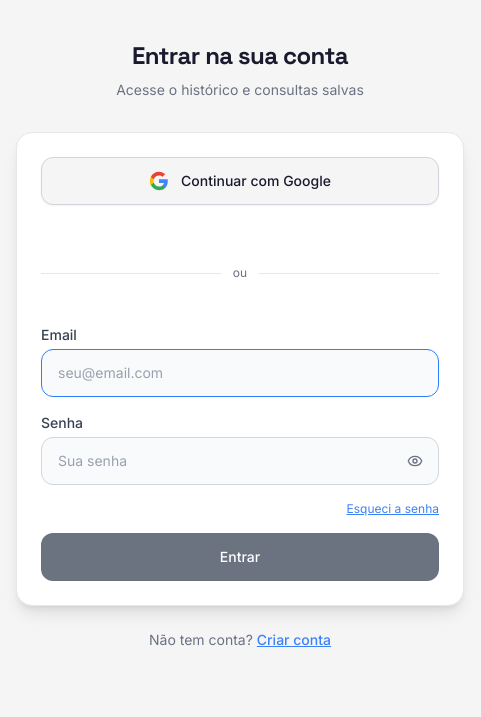
LoginForm › Error Messages (Task 7.5) › shows Portuguese error for email_not_confirmed
Type "test@example.com" into the field labelled "Email" at (240, 373), box [41,349,439,397]
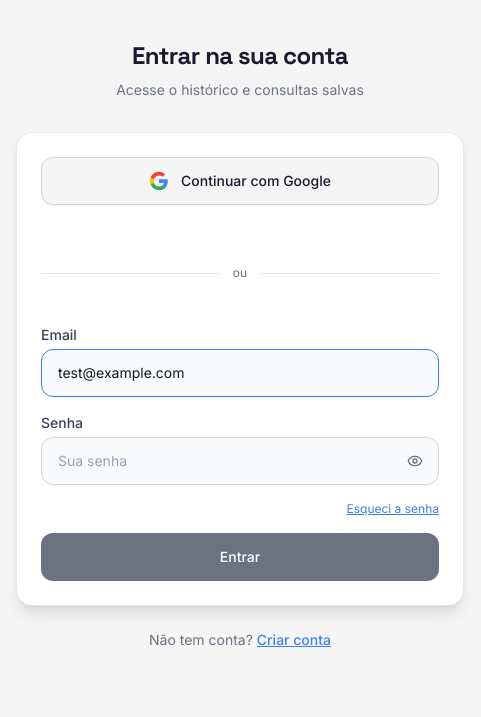
Type "password123" into the password field with id "login-password" at (240, 461), box [41,437,439,485]
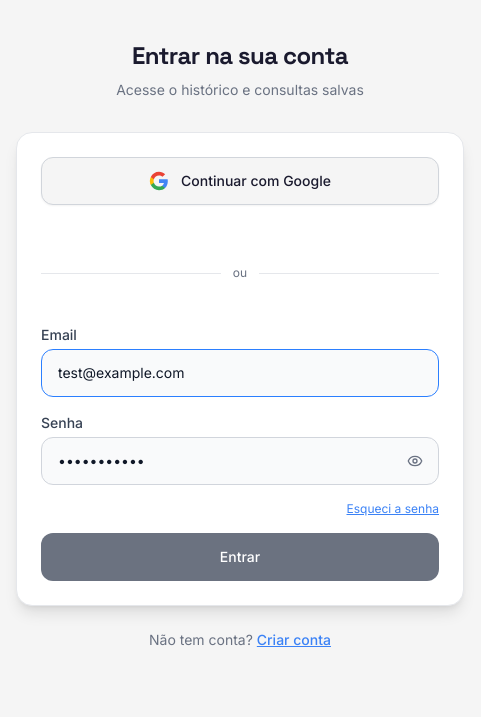
Click the button "Entrar" at (240, 557), box [41,533,439,581]
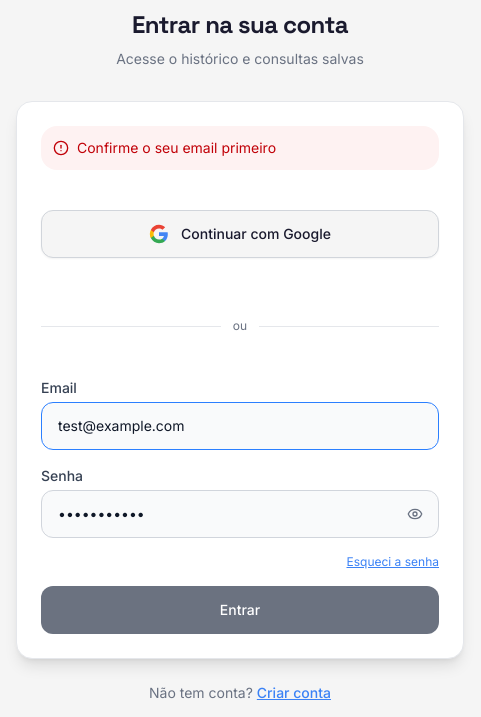
Expected: the text "Confirme o seu email primeiro" is shown, [77,138,276,158]
